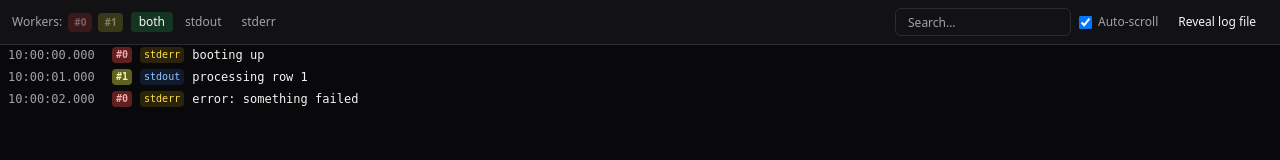
Test: AttemptLogsTab › worker filter narrows visible lines
Expected: the text "booting up" is shown, [192,47,264,63]
Expected: the text "processing row 1" is shown, [192,69,308,85]
Click worker #1 chip to filter to worker 1 only
Click the button named "worker 1": (110, 22) [98,12,123,32]
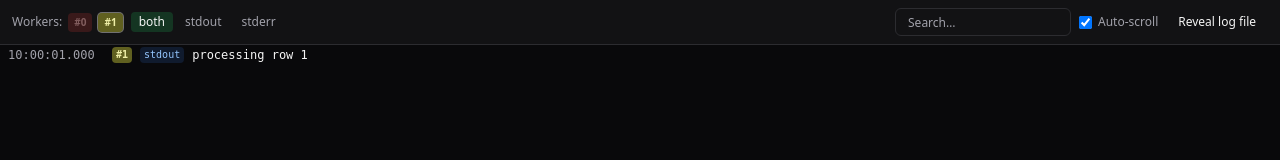
Now the text "booting up" is gone
Now the text "processing row 1" is shown, box [192,47,308,63]
Now the text "error: something failed" is gone
